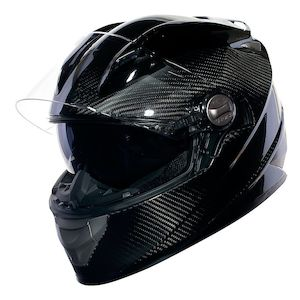with_helmet: (14, 11, 292, 289)
